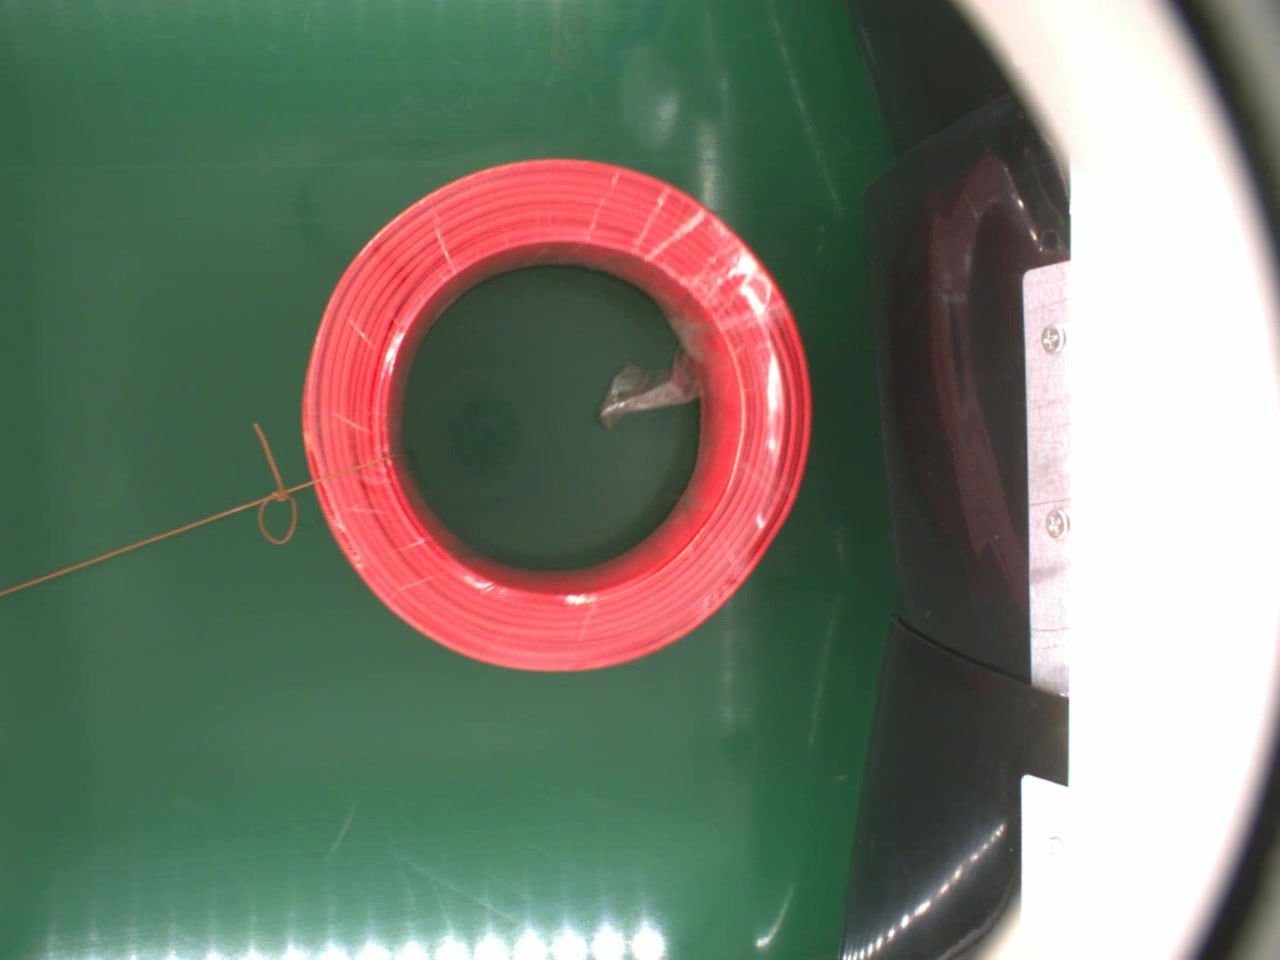red: (298, 155, 812, 674)
